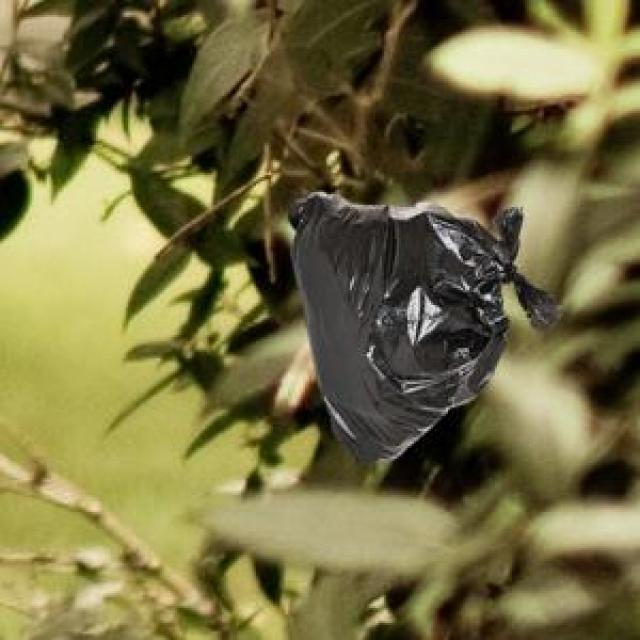Trashbag: (282, 180, 563, 468)
